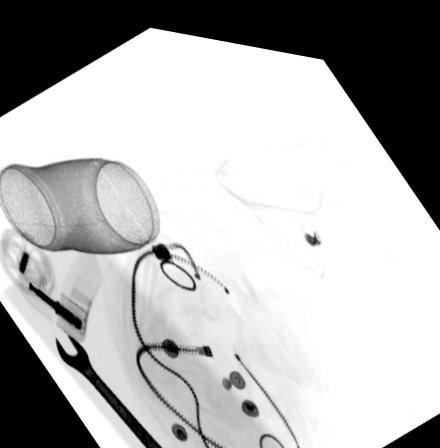Wrench: (54, 331, 169, 448)
